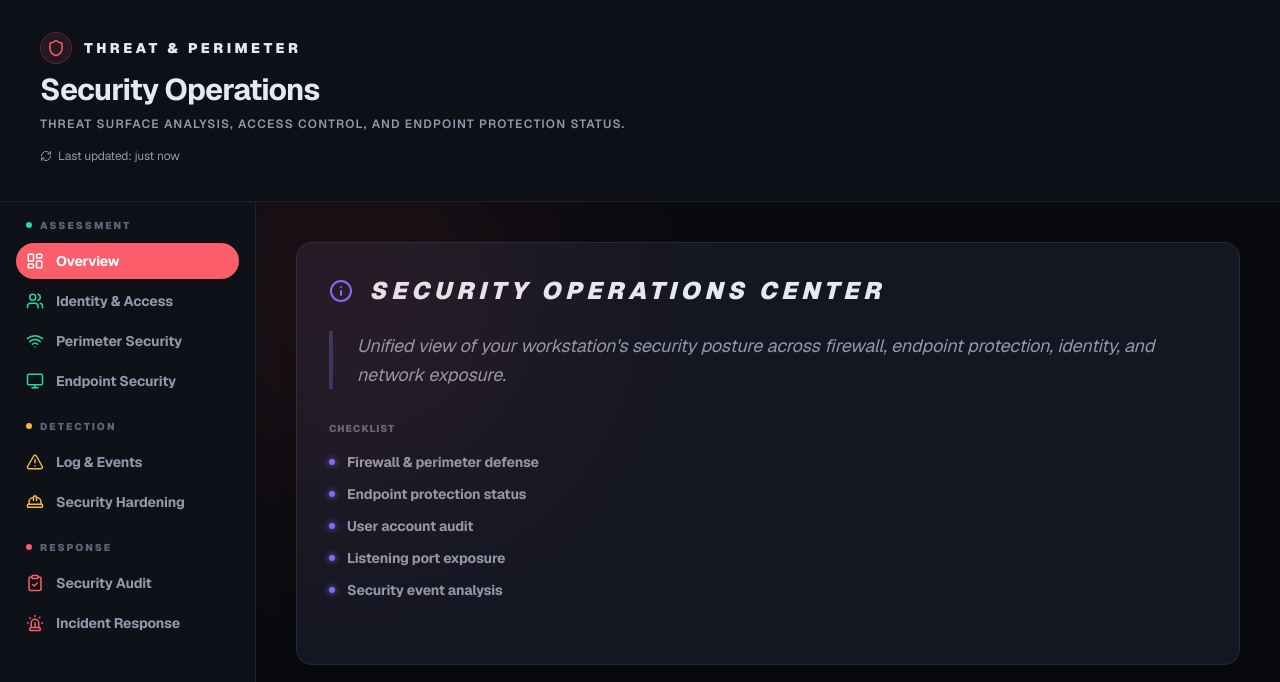
Test case: SecOps Page › navigates to Network Security sidebar category
What coordinates should you click on to do the following:
click the button "Perimeter Security"
I would click on:
 (128, 340)
Its box is [16,322,239,358].
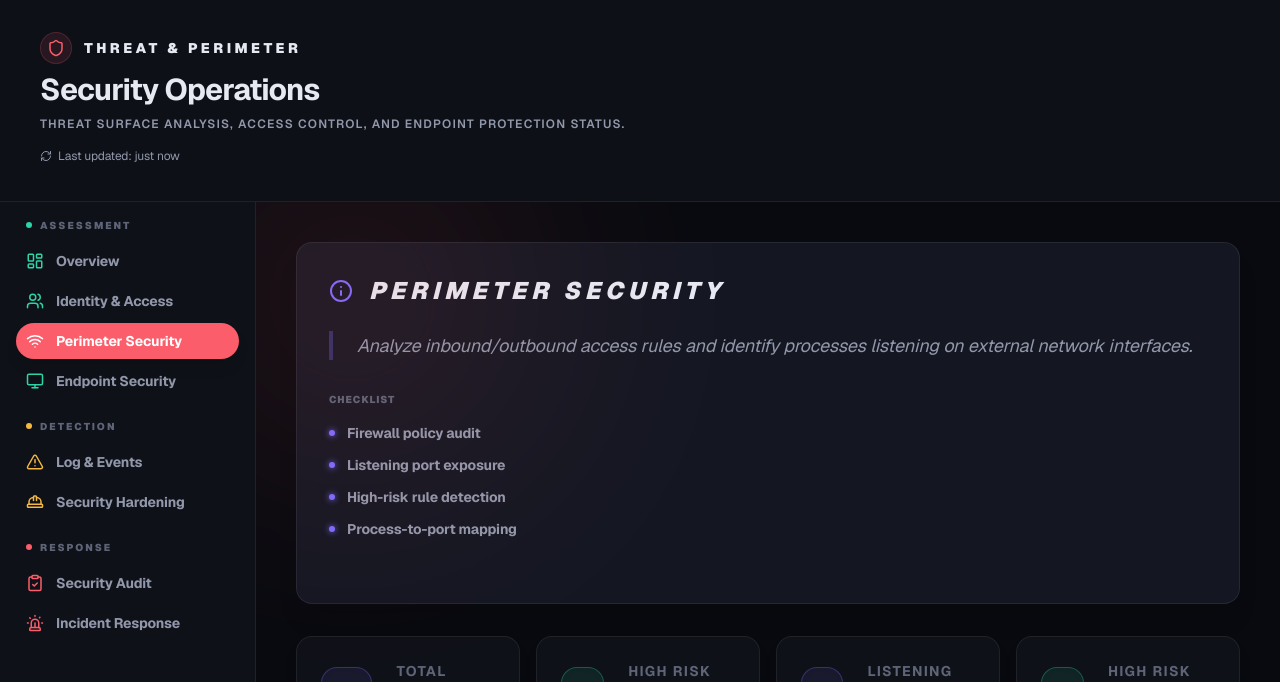
Now the heading "Perimeter Security" is shown, box [369,274,725,306]
